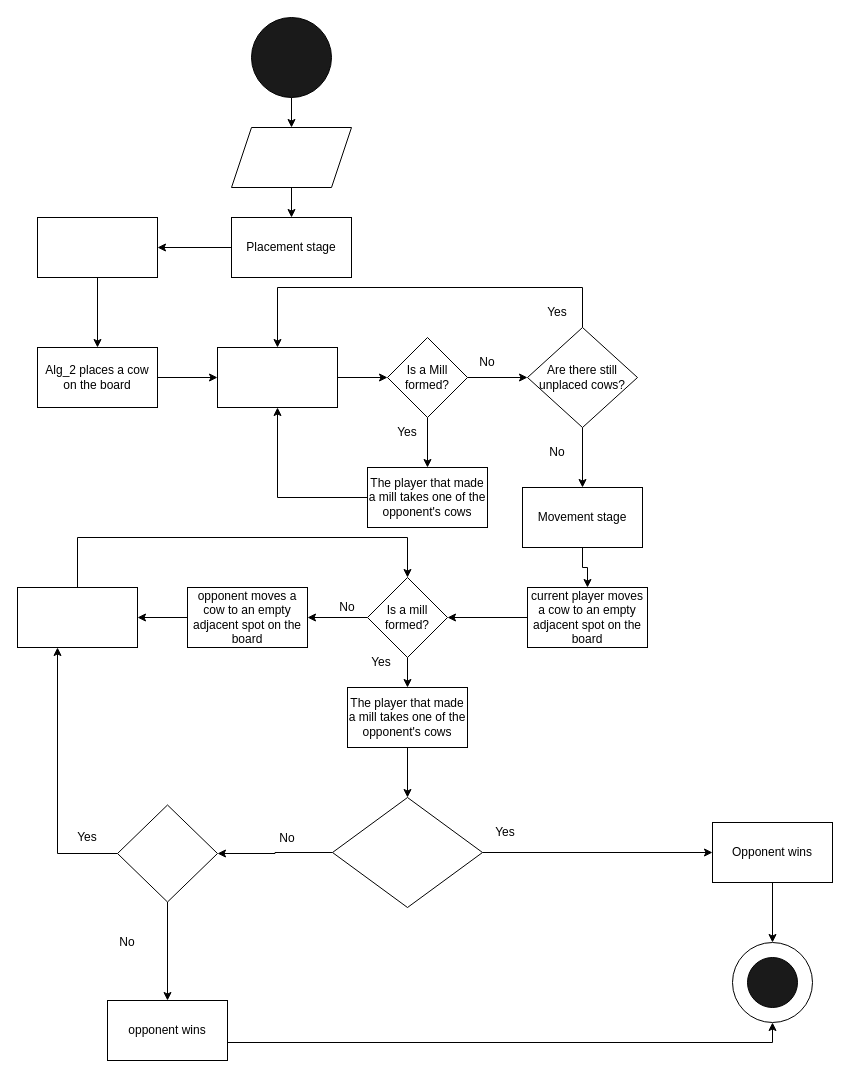
The diagram is 850 pixels wide and 1078 high, and some of its shapes have lost their labels. The centre of each missing label's shape, as x and y in pixels:
Alg_ 1 and Alg_2 take turns placing cows on board: (x=277, y=377)
Alg_1 and Alg_2 take turns moving a cow to an adjacent empty slot: (x=77, y=617)
Alg_1 starts placing a cow on the board: (x=97, y=247)
Can current player move?: (x=167, y=853)
Does current player have less than 3 cows left on the board?: (x=407, y=852)
Number of cows: (x=291, y=157)
